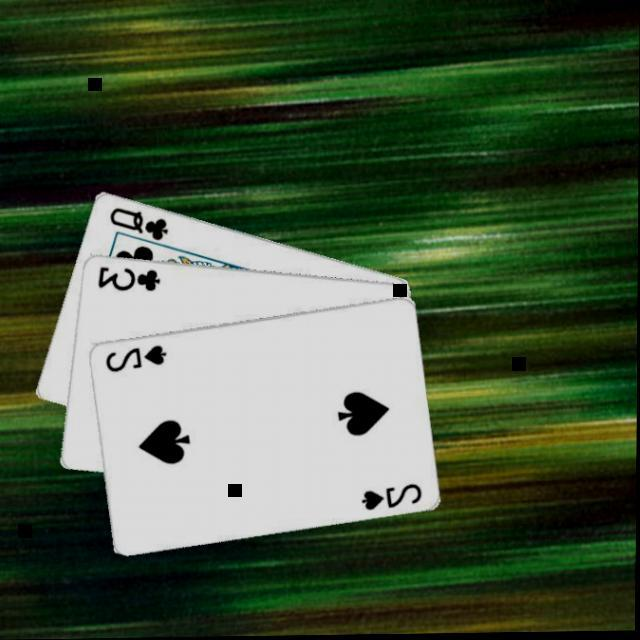2S: (101, 344, 169, 377), (356, 483, 424, 516)
3C: (93, 264, 161, 297)
QC: (105, 205, 171, 246)
